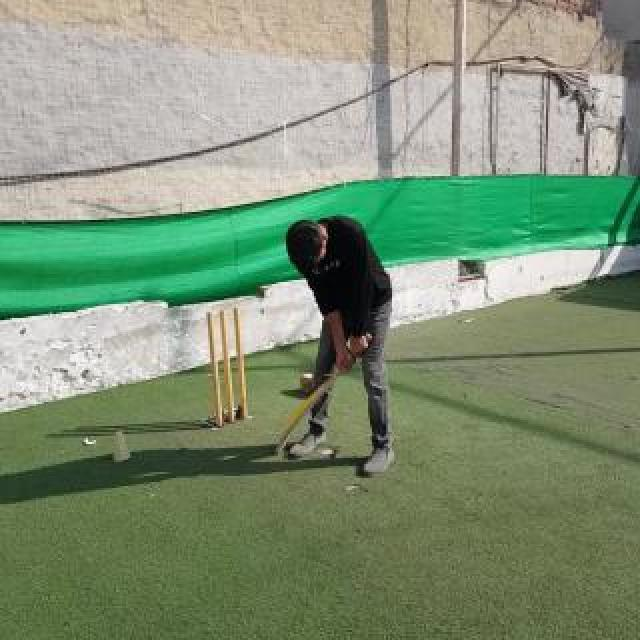bat: (274, 332, 372, 454)
